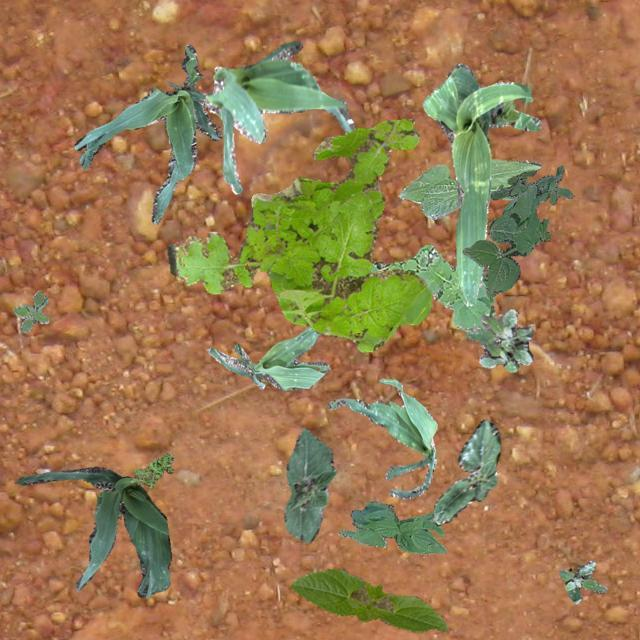crop: (422, 62, 540, 304), (74, 44, 220, 222), (203, 40, 354, 194), (15, 466, 170, 598), (326, 378, 436, 498), (290, 568, 446, 632), (396, 158, 540, 218), (206, 326, 330, 388), (432, 418, 499, 522), (282, 426, 336, 542), (338, 499, 446, 554)
weed: (166, 117, 430, 350), (368, 243, 494, 329), (462, 184, 550, 296), (463, 308, 532, 372), (489, 164, 572, 217), (558, 560, 606, 602), (12, 288, 48, 332), (128, 452, 174, 486)
